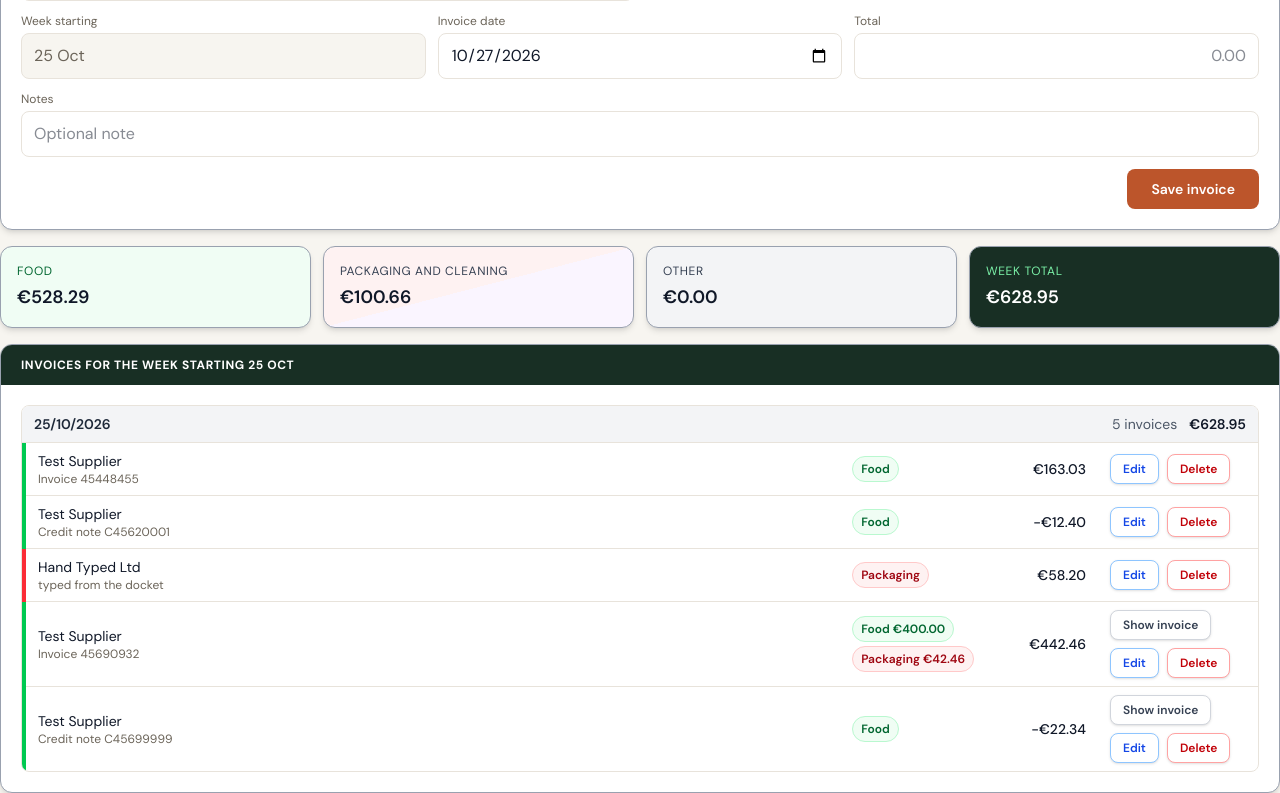
editing a document that was read in › shows the total and the category as fixed, and says where a shortage goes
(page scrolled)
Click the button "Edit" in the row of "45690932" at (1134, 663), box left=1110, top=648, right=1159, bottom=678
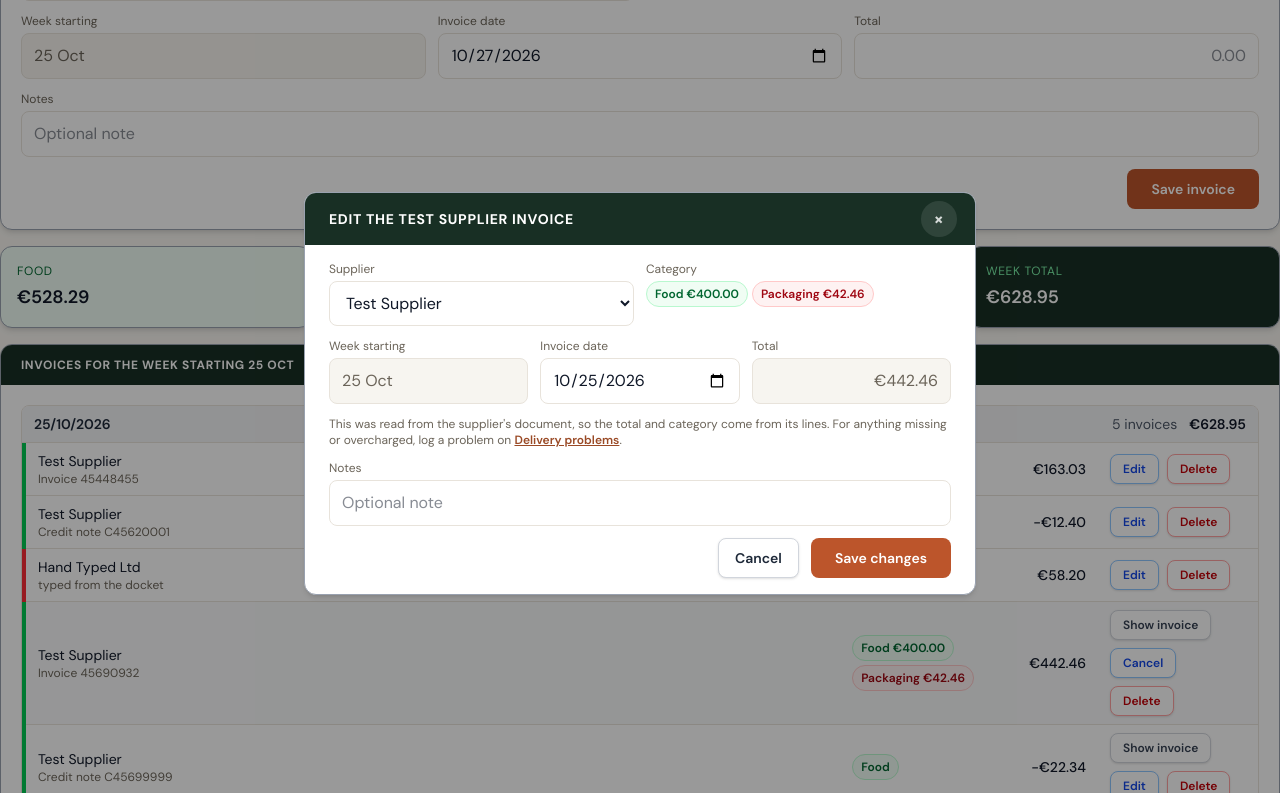
Expected: the field showing "€442.46" is disabled, left=752, top=358, right=951, bottom=404
